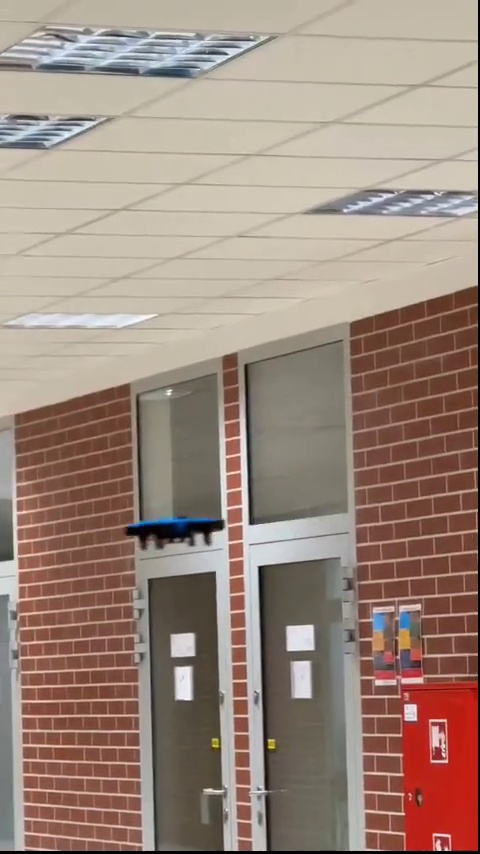drone: (131, 517, 231, 547)
